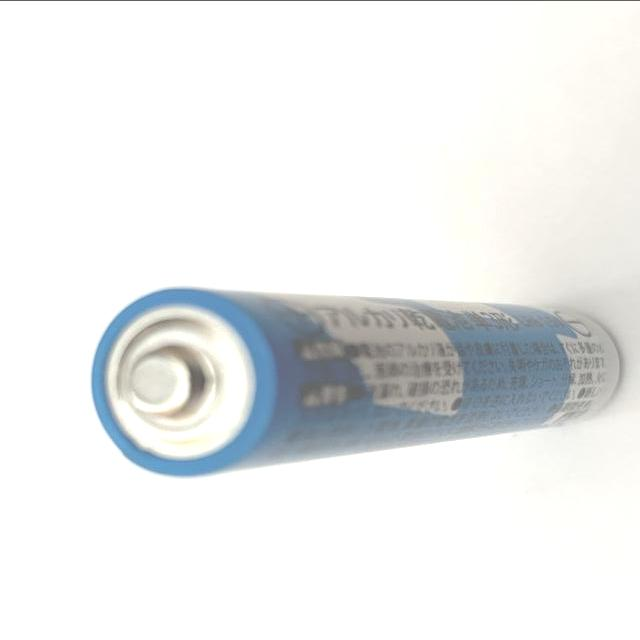AAA: (88, 280, 629, 483)
